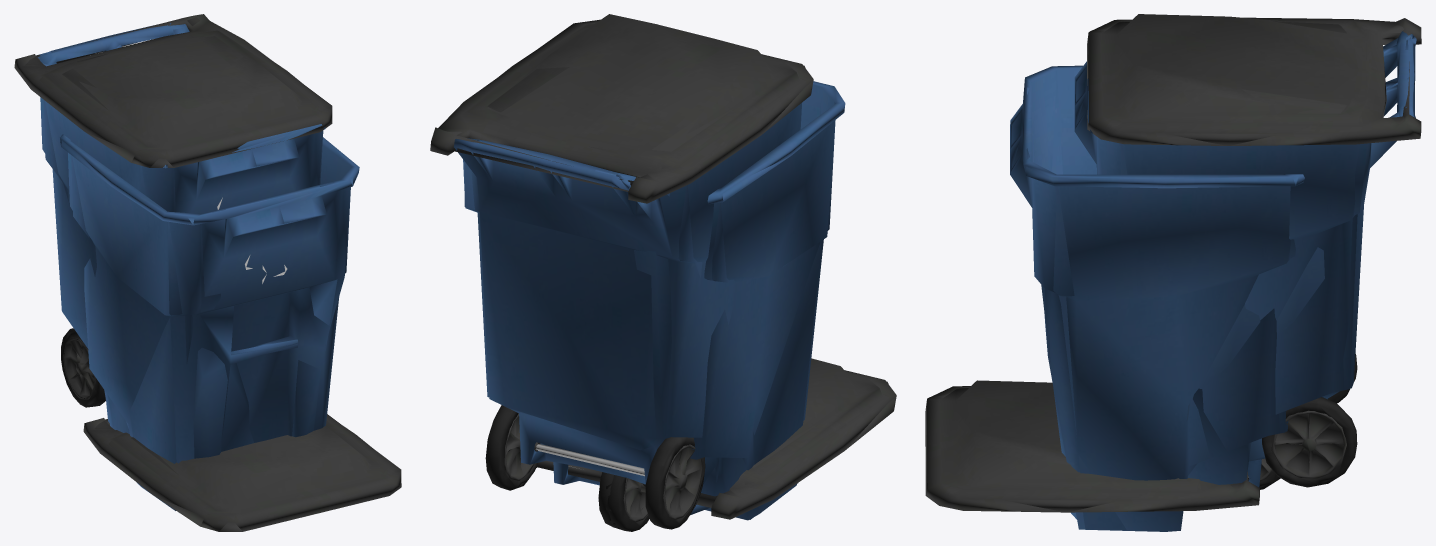
Rendered from wheelie_bin.glb.
The picture shows the model from 3 angles, left to right: view 1: azimuth 30°, elevation 25°; view 2: azimuth 150°, elevation 25°; view 3: azimuth 270°, elevation 25°; orthographic projection. The views are drawn at different scales.
Parts seen in each view (by area): view 1: sm_body_a01_mesh_00 (×2), sm_lid_a01_mesh_00 (×2), sm_wheel2_a01_mesh_00; view 2: sm_body_a01_mesh_00 (×2), sm_lid_a01_mesh_00 (×2), sm_wheel2_a01_mesh_00 (×2), sm_wheel1_a01_mesh_00 (×2); view 3: sm_body_a01_mesh_00 (×2), sm_lid_a01_mesh_00 (×2), sm_wheel1_a01_mesh_00.
Boxes of the visible parts, x1,y1,x2,y2 form: sm_body_a01_mesh_00 (×2): (36,23,359,510); sm_lid_a01_mesh_00 (×2): (14,14,401,531); sm_wheel2_a01_mesh_00: (61,328,105,407); sm_body_a01_mesh_00 (×2): (454,81,845,520); sm_lid_a01_mesh_00 (×2): (430,14,896,519); sm_wheel2_a01_mesh_00 (×2): (606,437,705,531); sm_wheel1_a01_mesh_00 (×2): (485,405,645,530); sm_body_a01_mesh_00 (×2): (1010,31,1416,531); sm_lid_a01_mesh_00 (×2): (925,14,1421,512); sm_wheel1_a01_mesh_00: (1262,397,1357,487).
Bounding box in the file's own units: 0.5908 × 1.03 × 1.05.
Materials: 8 (7 with a texture image).
